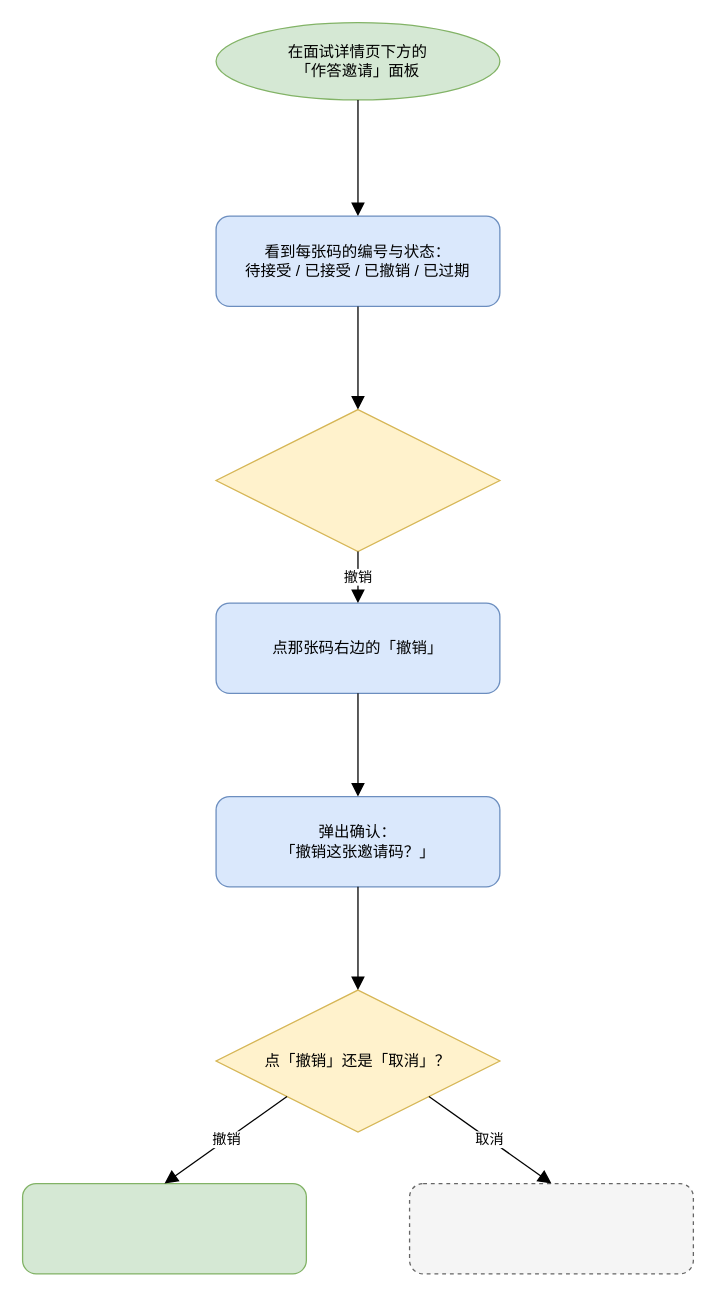
This 716x1296 diagram has some shape labels left out. The centre of each missing label's shape, as x and y in pixels:
"点「取消」， 这张码不变" goes at point (550, 1228).
"看到「邀请已撤销」， 状态变成「已撤销」" goes at point (163, 1228).
"要处理哪一张？" goes at point (357, 479).
